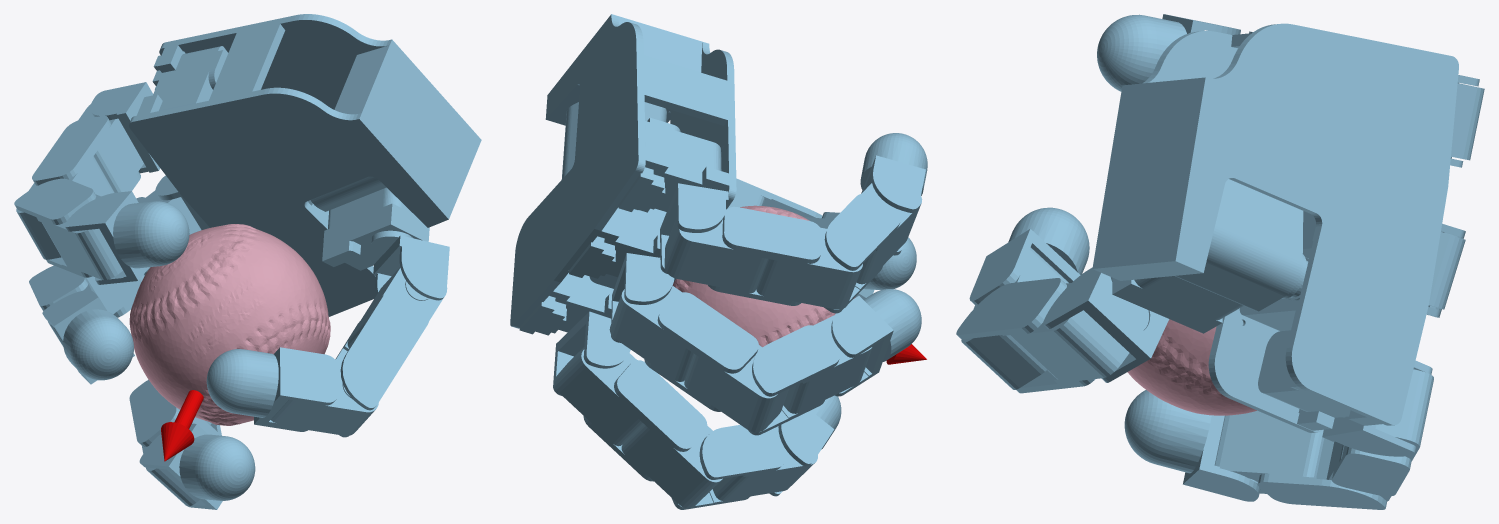
3 views of the same model, side by side, from view 1: azimuth 30°, elevation 25°; view 2: azimuth 150°, elevation 25°; view 3: azimuth 270°, elevation 25° (orthographic). The views are drawn at different scales.
Visible parts, largest first — view 1: world, baseball.stl; view 2: world, baseball.stl; view 3: world, baseball.stl.
Boxes of the visible parts, box(x1,y1,x2,y2) form: world: box(14, 14, 481, 509); baseball.stl: box(129, 224, 330, 425); world: box(510, 14, 927, 509); baseball.stl: box(672, 205, 855, 347); world: box(956, 14, 1484, 509); baseball.stl: box(1127, 319, 1256, 415).
Bounding box in the file's own units: 0.1693 × 0.1838 × 0.1576.
